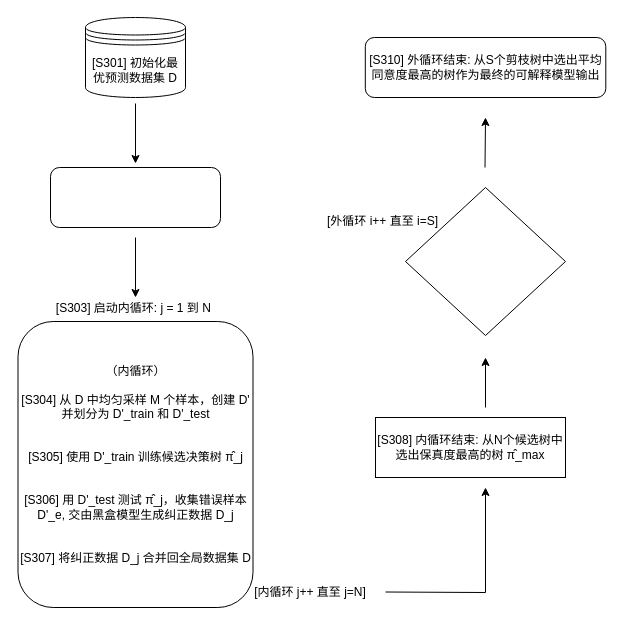
Image size: 623x625. Some labels were removed from this diagram. Each missing label, with the box of its shape:
[S302] 启动外循环: i = 1 到 S: (50, 166, 220, 228)
[S309] 对 π̂_max 进行 Top-k 剪枝， 得到剪枝后树 π̂_i: (404, 186, 566, 336)
